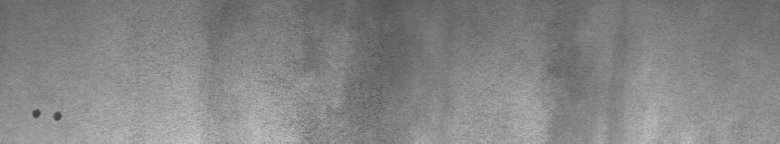fi: (26, 104, 64, 126)
